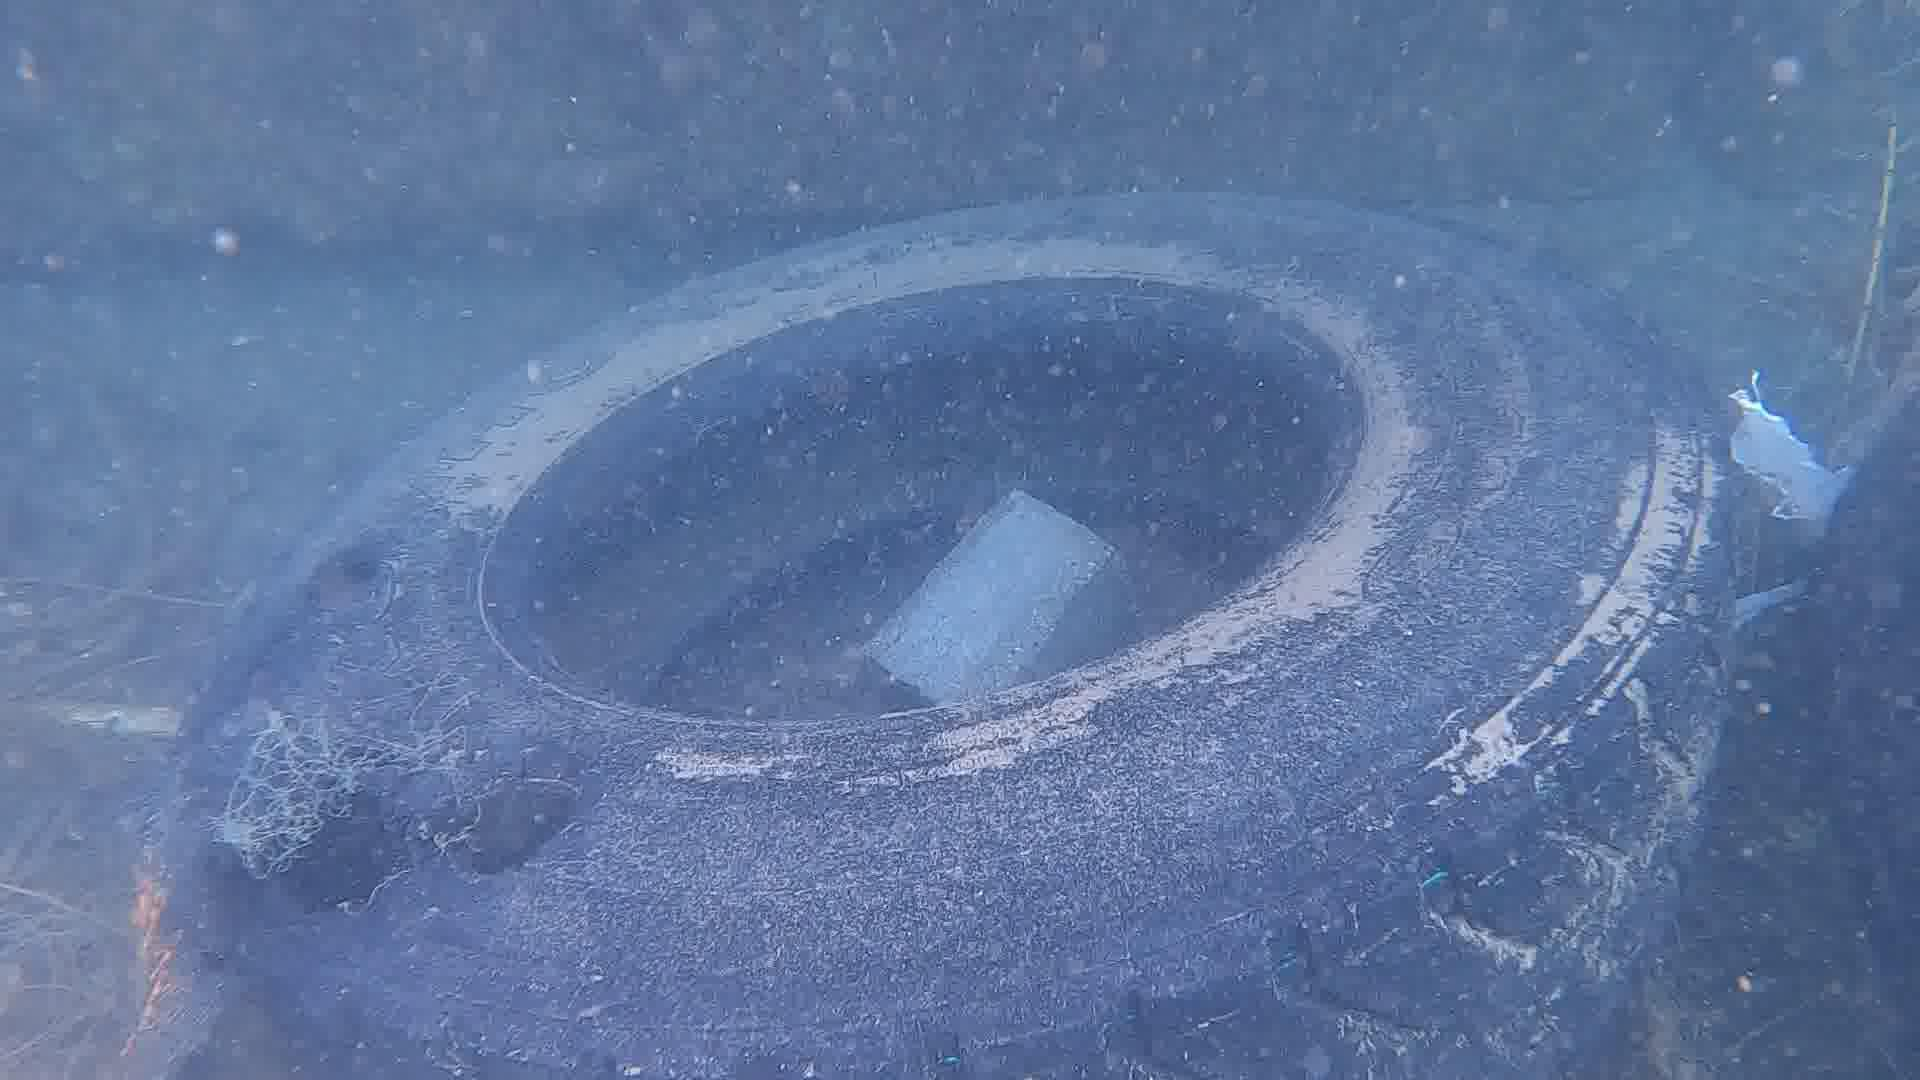tire: (135, 187, 1741, 1080)
